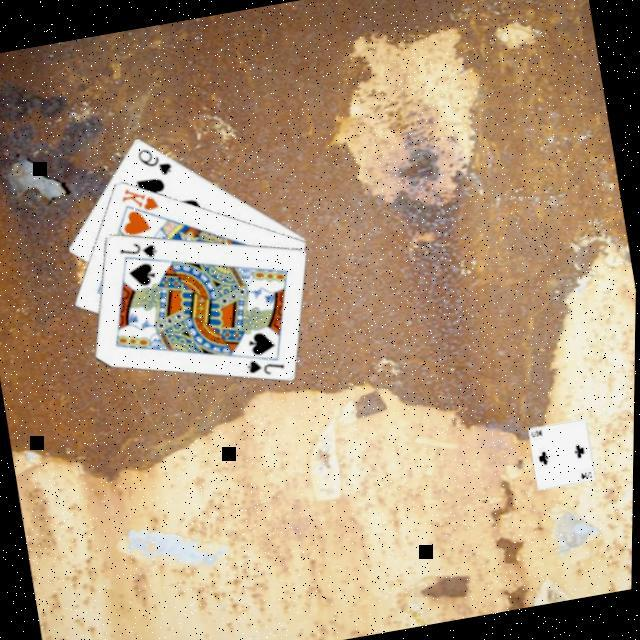9S: (135, 141, 178, 181)
JS: (118, 236, 163, 265), (246, 352, 290, 381)
KH: (118, 180, 164, 218)
